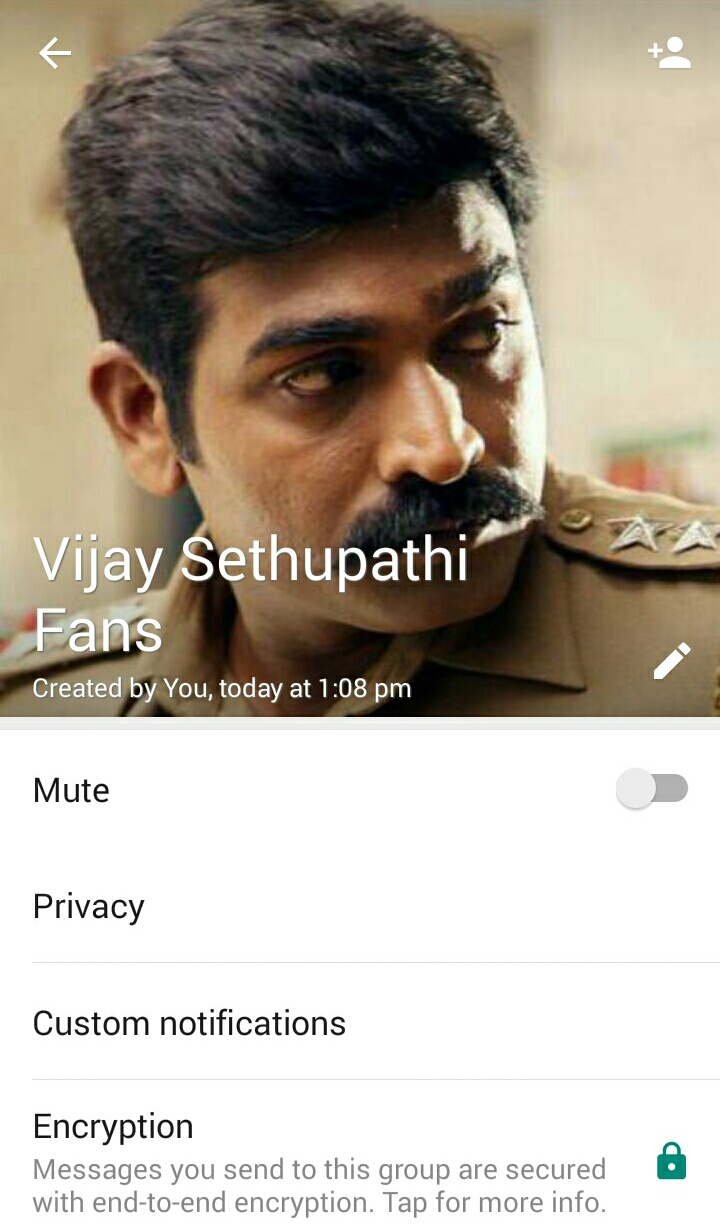bad: (204, 247, 589, 632)
